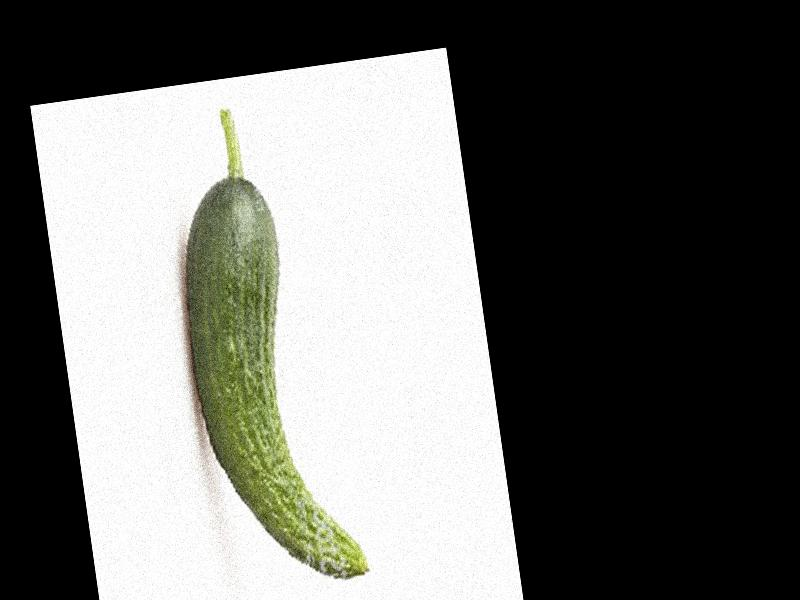Cucumber: (158, 97, 368, 596)
